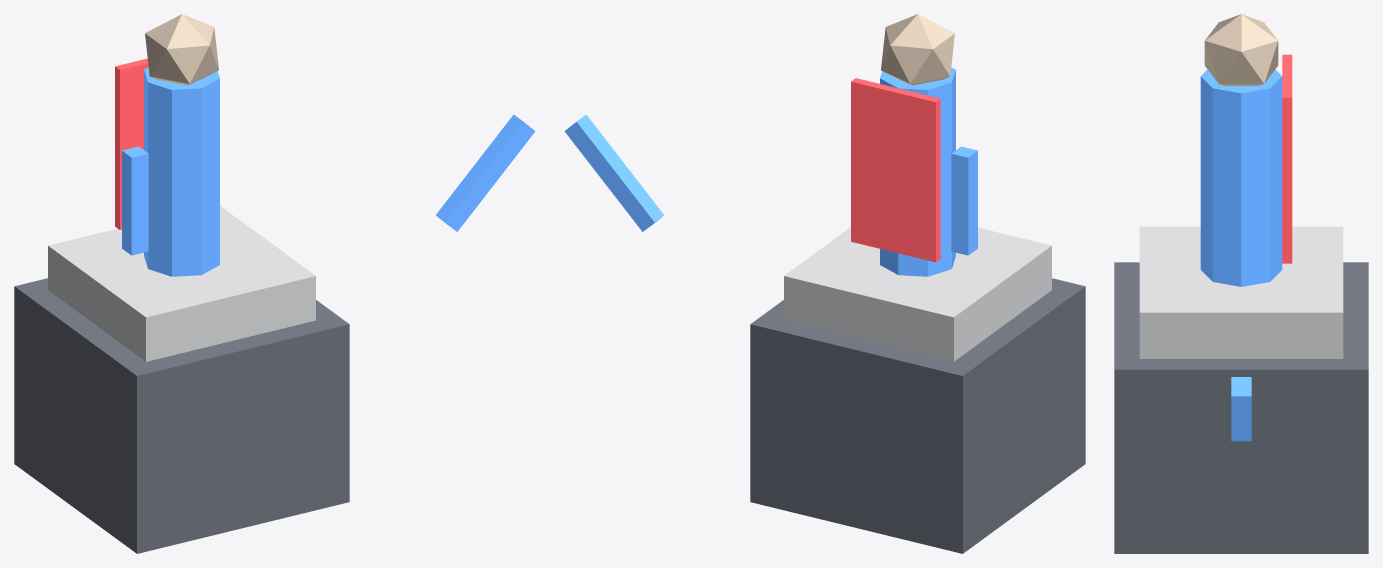
Rendered from hero_statue.glb.
The picture shows the model from 3 angles, left to right: view 1: azimuth 30°, elevation 25°; view 2: azimuth 150°, elevation 25°; view 3: azimuth 270°, elevation 25°; orthographic projection. The views are drawn at different scales.
Visible parts, largest first — view 1: hero_statue; view 2: hero_statue; view 3: hero_statue.
Part boxes in pixels (<box>): hero_statue: <box>14,14,535,553</box>; hero_statue: <box>564,14,1085,553</box>; hero_statue: <box>1114,14,1368,553</box>.
Bounding box in the file's own units: 1.07 × 1.06 × 0.5.
